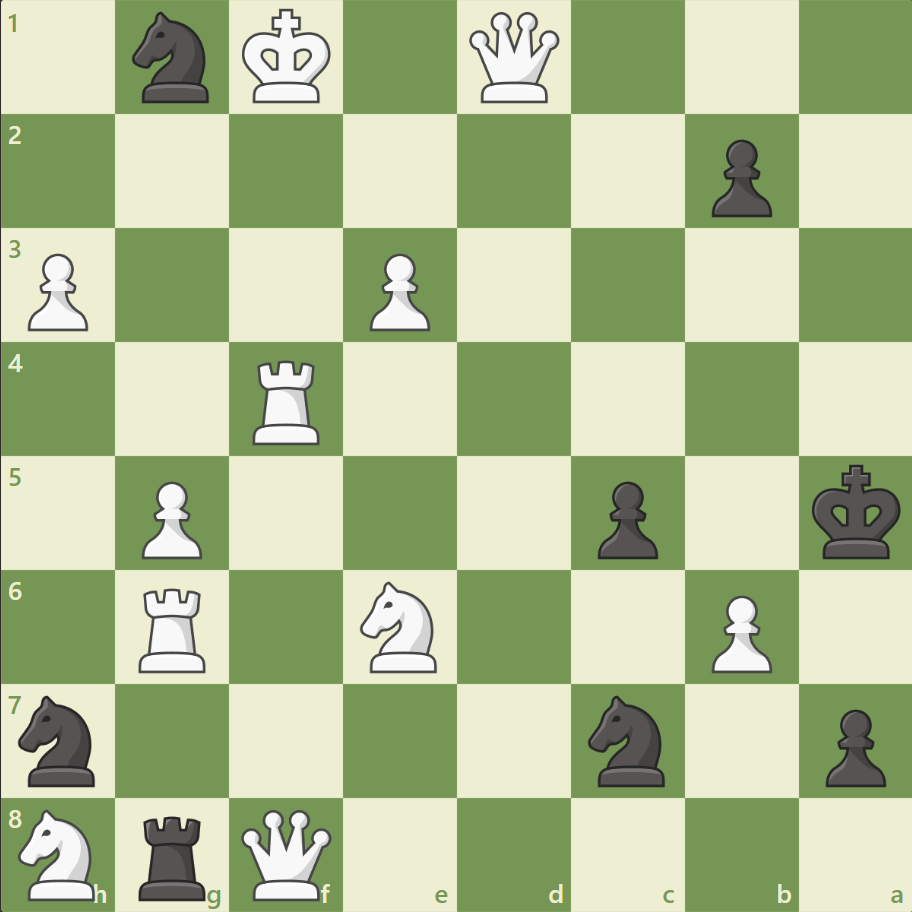K: (238, 4, 338, 112)
N: (351, 575, 449, 677), (11, 802, 108, 904)
P: (701, 586, 776, 677), (133, 473, 208, 564), (20, 246, 95, 337), (361, 246, 435, 337)
Q: (237, 804, 336, 903), (464, 9, 563, 108)
R: (246, 352, 329, 449), (133, 579, 215, 676)
k: (806, 458, 906, 566)
n: (124, 7, 222, 110), (579, 688, 676, 791), (11, 688, 108, 791)
p: (701, 132, 776, 223), (815, 700, 889, 791), (588, 473, 662, 564)
r: (133, 806, 215, 904)
